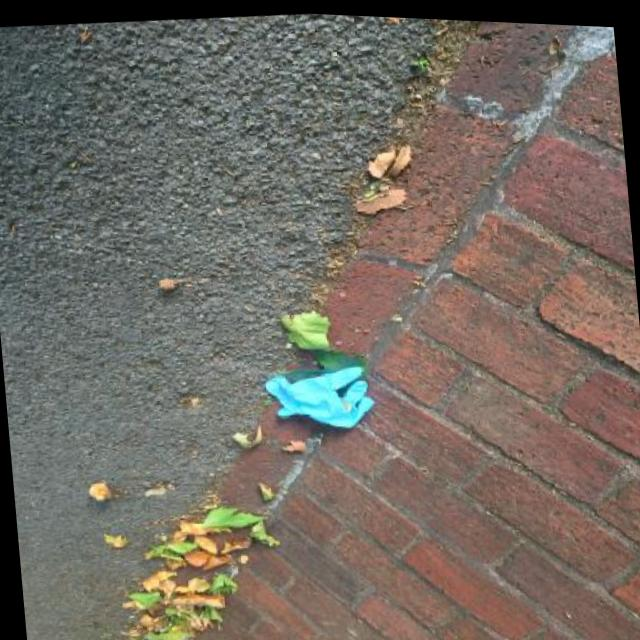plastic: (262, 358, 376, 437)
